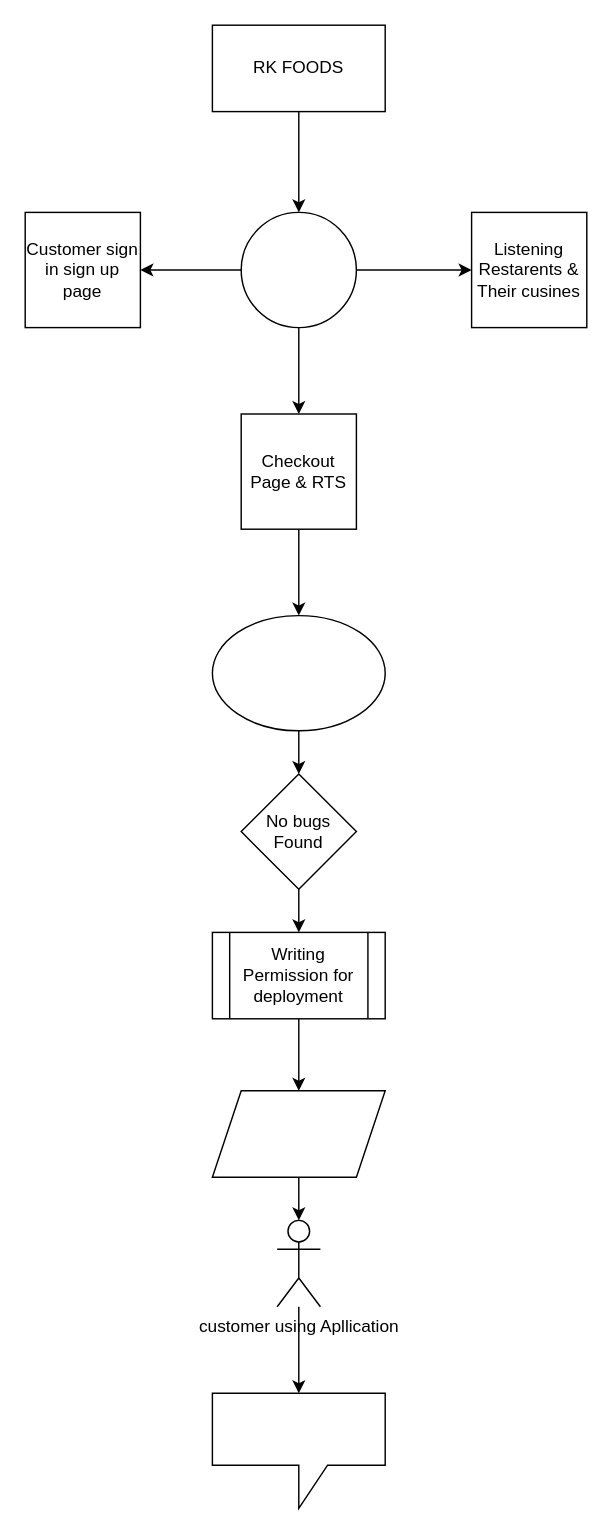
The diagram is 612 pixels wide and 1534 high, and some of its shapes have lost their labels. Here are the shapes that lost their labels. From the top down, the centre of each, then its label:
the point at 298,269: Design upux
the point at 298,672: Compilling code into apk
the point at 298,1133: Pushing Apk to Playstore
the point at 298,1450: No Feadback Resolved
